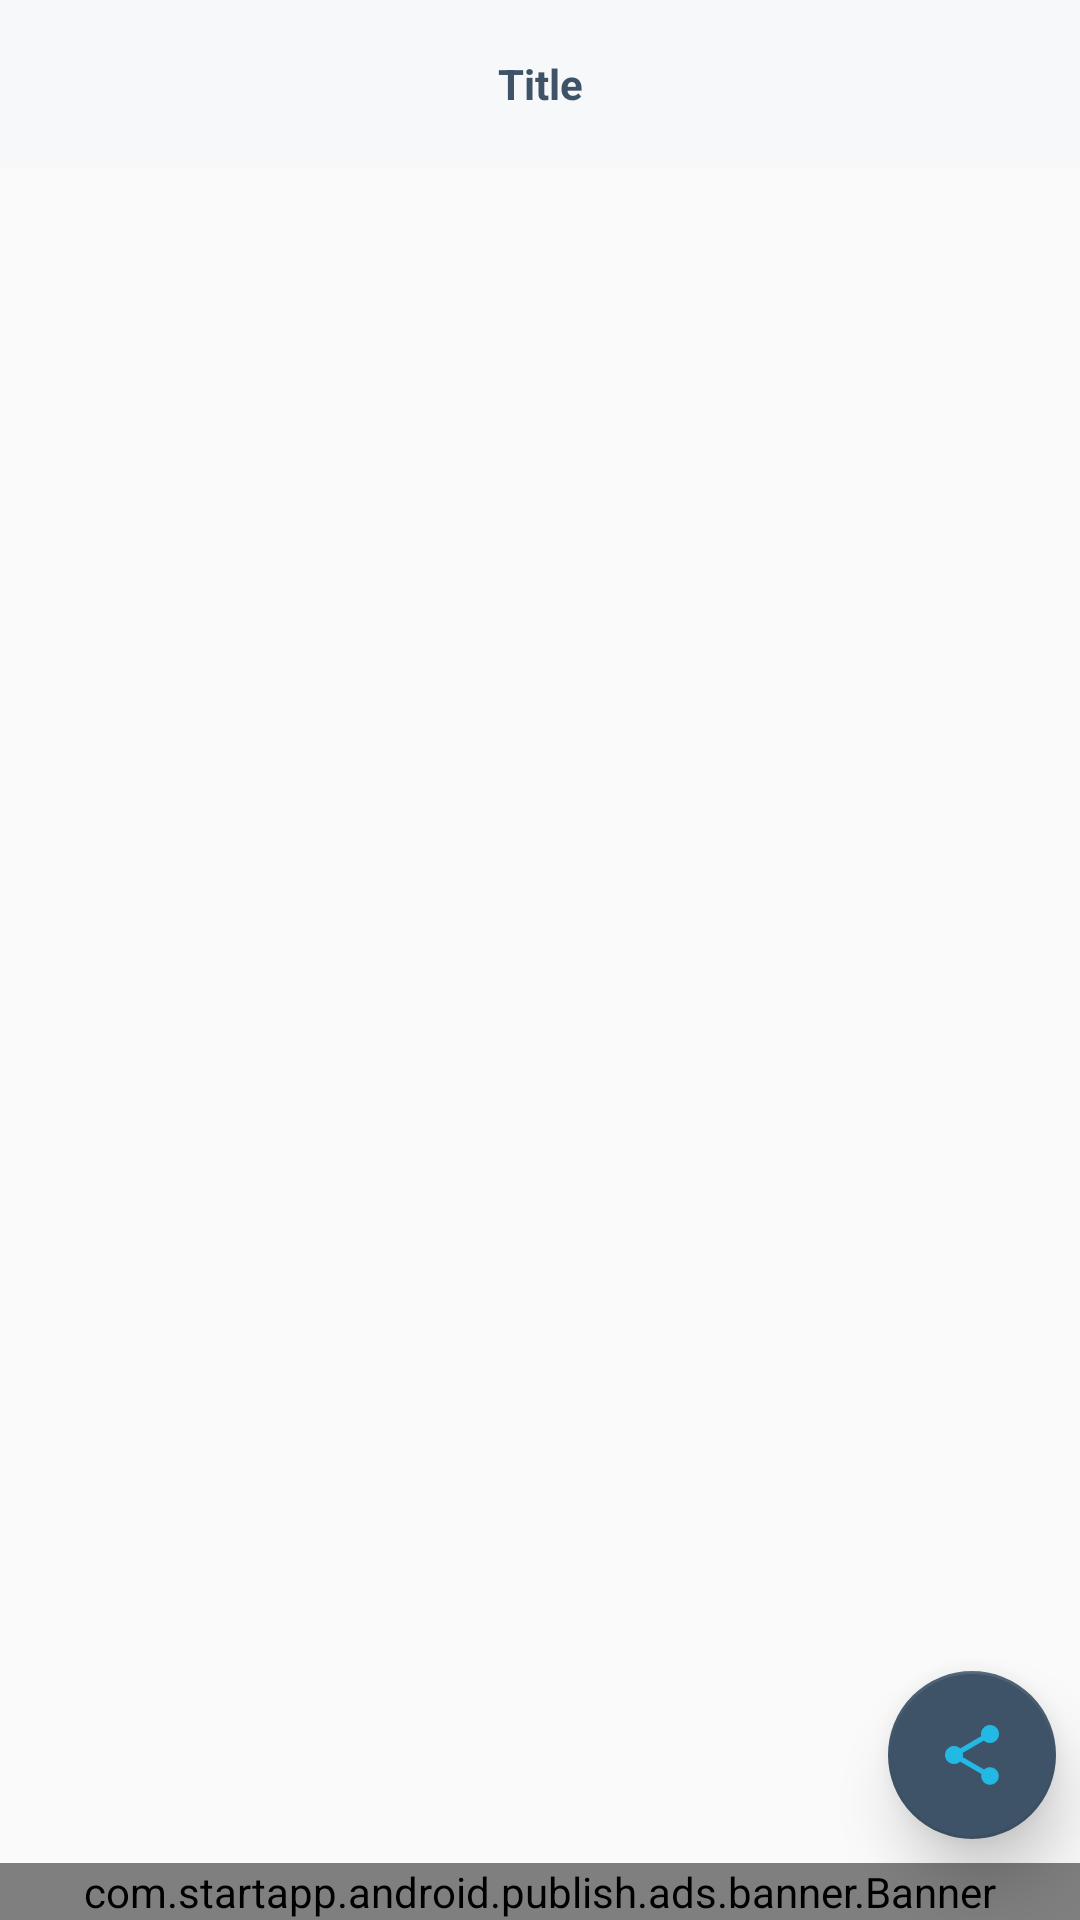

Icon click points for this 1080 × 1920 phone screenshot, format [x,y]:
share: [972,1755]
